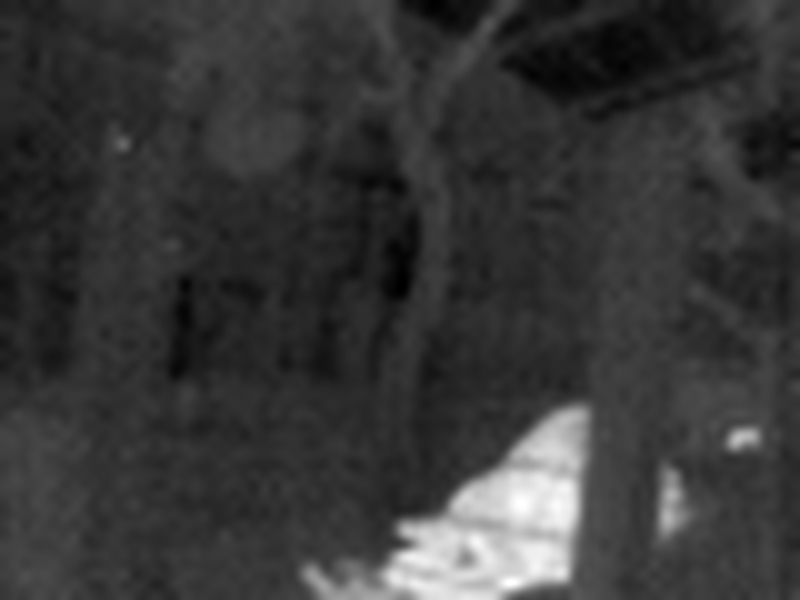elephant: (298, 398, 660, 600)
